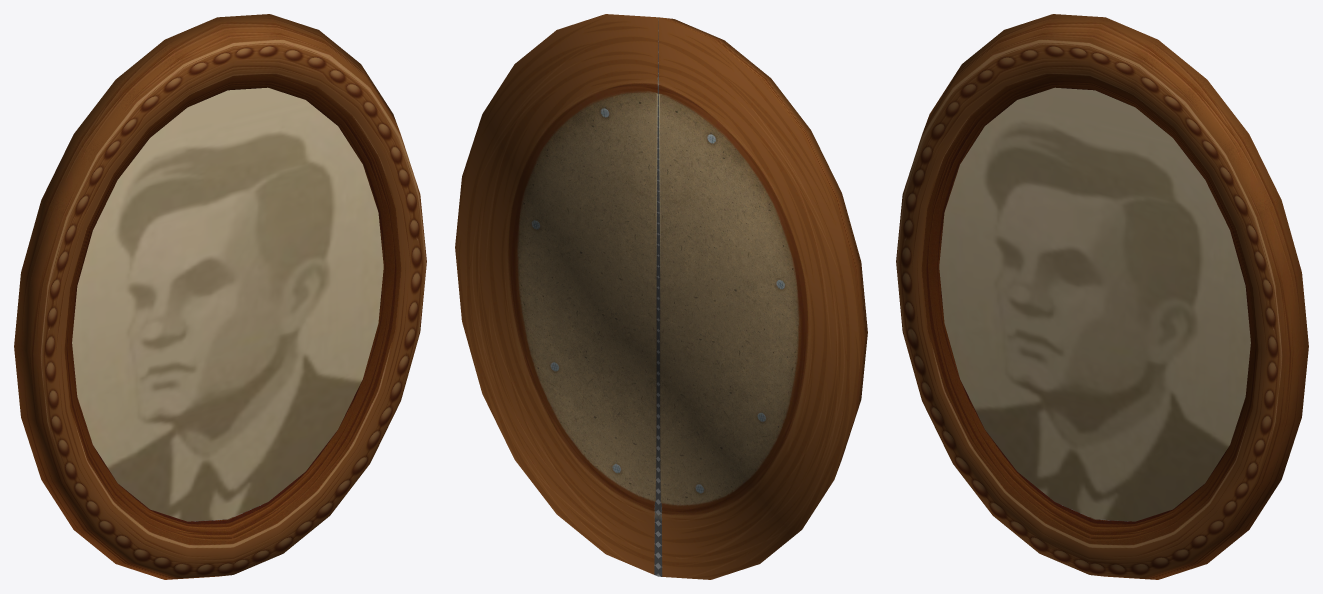
File: hello_neighbor_picture.glb
The picture shows the model from 3 angles, left to right: view 1: azimuth 30°, elevation 25°; view 2: azimuth 150°, elevation 25°; view 3: azimuth 330°, elevation 25°; orthographic projection.
Visible parts, largest first — view 1: pictureOvalDark; view 2: pictureOvalDark; view 3: pictureOvalDark.
Part boxes in pixels (<box>): pictureOvalDark: <box>14,14,426,579</box>; pictureOvalDark: <box>455,14,867,579</box>; pictureOvalDark: <box>896,14,1308,579</box>.
Size of the model in its own units: 0.6264 by 0.8235 by 0.0429.
2 materials, 2 textured.
